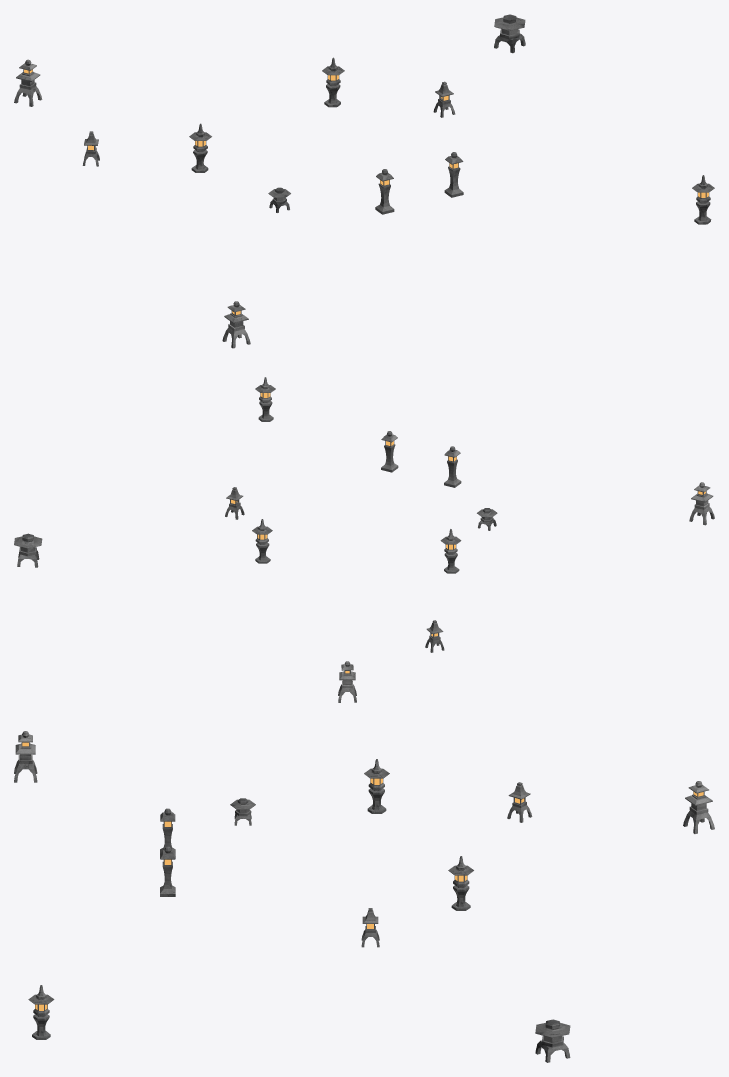
The model's file is Zen_Pagoda.glb.
3 renders of one model, top to bottom at view 1: azimuth 30°, elevation 25°; view 2: azimuth 150°, elevation 25°; view 3: azimuth 270°, elevation 25°, orthographic. The views are drawn at different scales.
Parts seen in each view (by area): view 1: Zen Pagoda 05.001, Zen Pagoda 03.001, Zen Pagoda 03, Zen Pagoda 01.001, Zen Pagoda 01.002, Zen Pagoda 01; view 2: Zen Pagoda 05.001, Zen Pagoda 03, Zen Pagoda 03.001; view 3: Zen Pagoda 05.001, Zen Pagoda 03.001, Zen Pagoda 03, Zen Pagoda 01.001, Zen Pagoda 01.002, Zen Pagoda 01, Zen Pagoda 02.
Part boxes in pixels (<box>): Zen Pagoda 05.001: <box>494,14,525,53</box>; Zen Pagoda 03.001: <box>14,59,42,106</box>; Zen Pagoda 03: <box>222,301,250,348</box>; Zen Pagoda 01.001: <box>322,57,344,107</box>; Zen Pagoda 01.002: <box>692,175,714,224</box>; Zen Pagoda 01: <box>189,123,211,172</box>; Zen Pagoda 05.001: <box>14,533,42,567</box>; Zen Pagoda 03: <box>689,482,714,525</box>; Zen Pagoda 03.001: <box>338,661,356,702</box>; Zen Pagoda 05.001: <box>535,1019,570,1062</box>; Zen Pagoda 03.001: <box>683,781,714,833</box>; Zen Pagoda 03: <box>14,731,37,782</box>; Zen Pagoda 01.001: <box>448,856,473,910</box>; Zen Pagoda 01.002: <box>28,985,54,1039</box>; Zen Pagoda 01: <box>364,759,389,813</box>; Zen Pagoda 02: <box>160,846,175,896</box>.
Size of what is drawn, in the model's own units: 26.4 by 3.59 by 26.81.
Materials: 2 (1 with a texture image).
